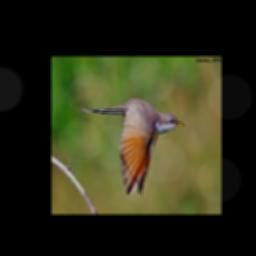Cuckoo: (79, 97, 185, 197)
